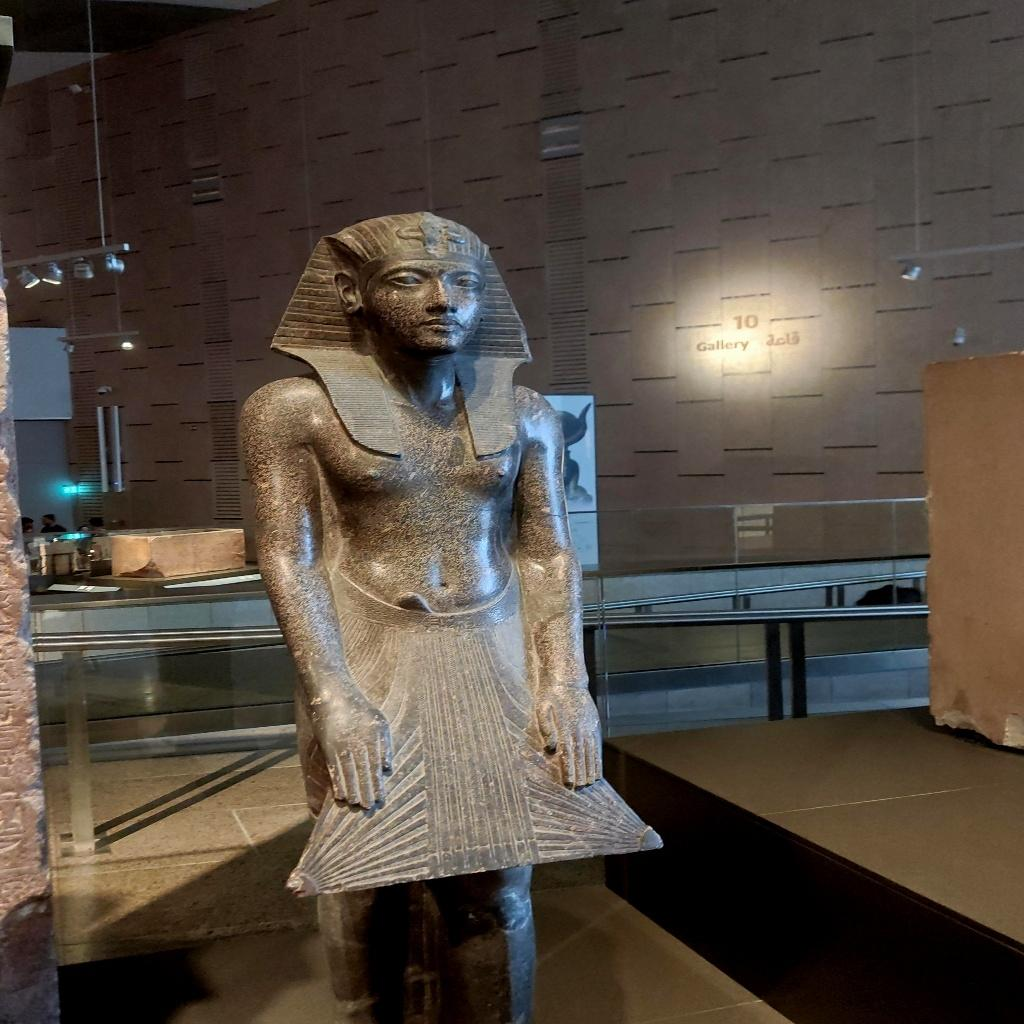Granite Statue of Tutankhamun: (242, 205, 670, 892)
